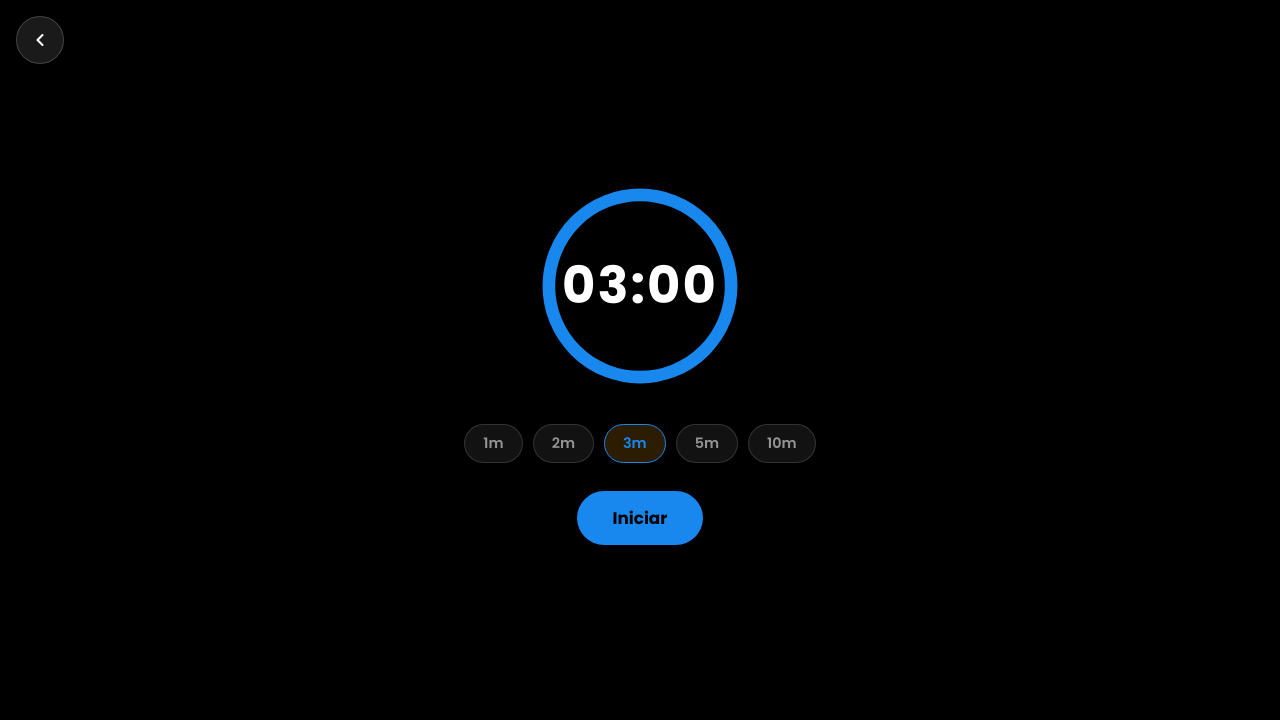
Scenario: <Temporizador> › clicking Iniciar ticks down each second
The image size is (1280, 720).
Click the button "Iniciar": (640, 518) [576,490,703,544]
Wait 3000 ms
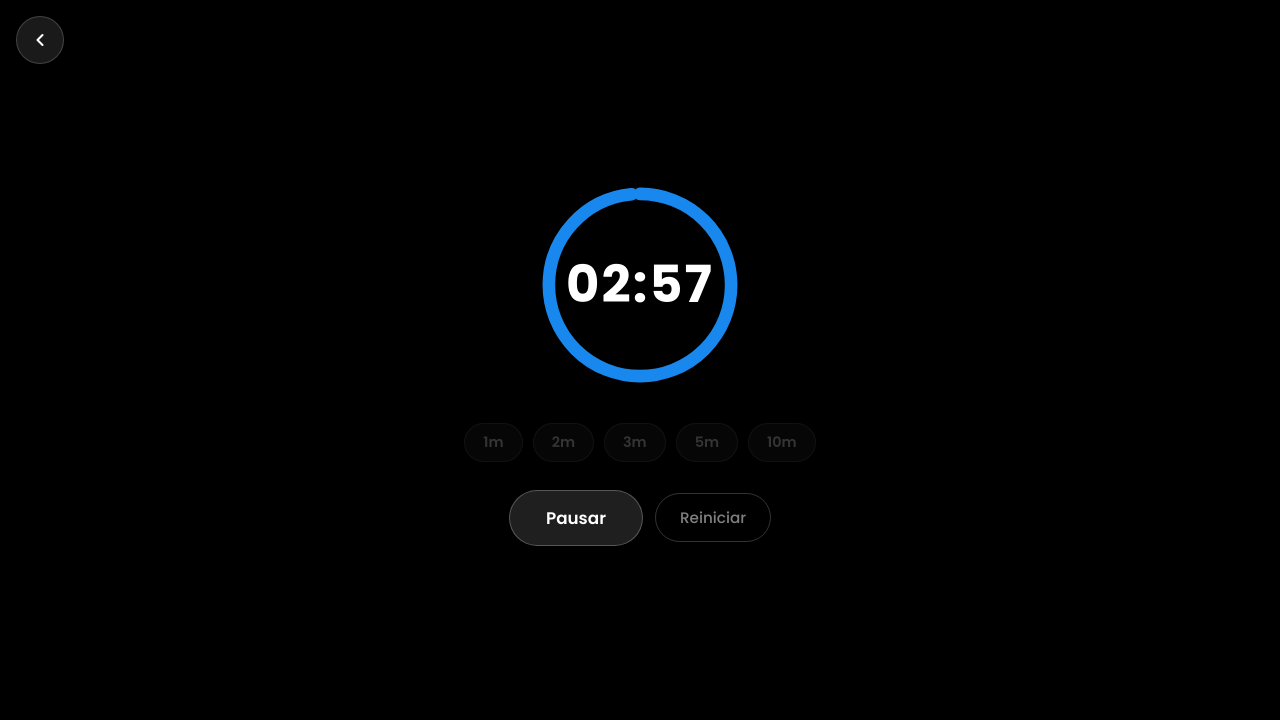
Expected: the text "02:57" is shown, [566,244,714,325]
